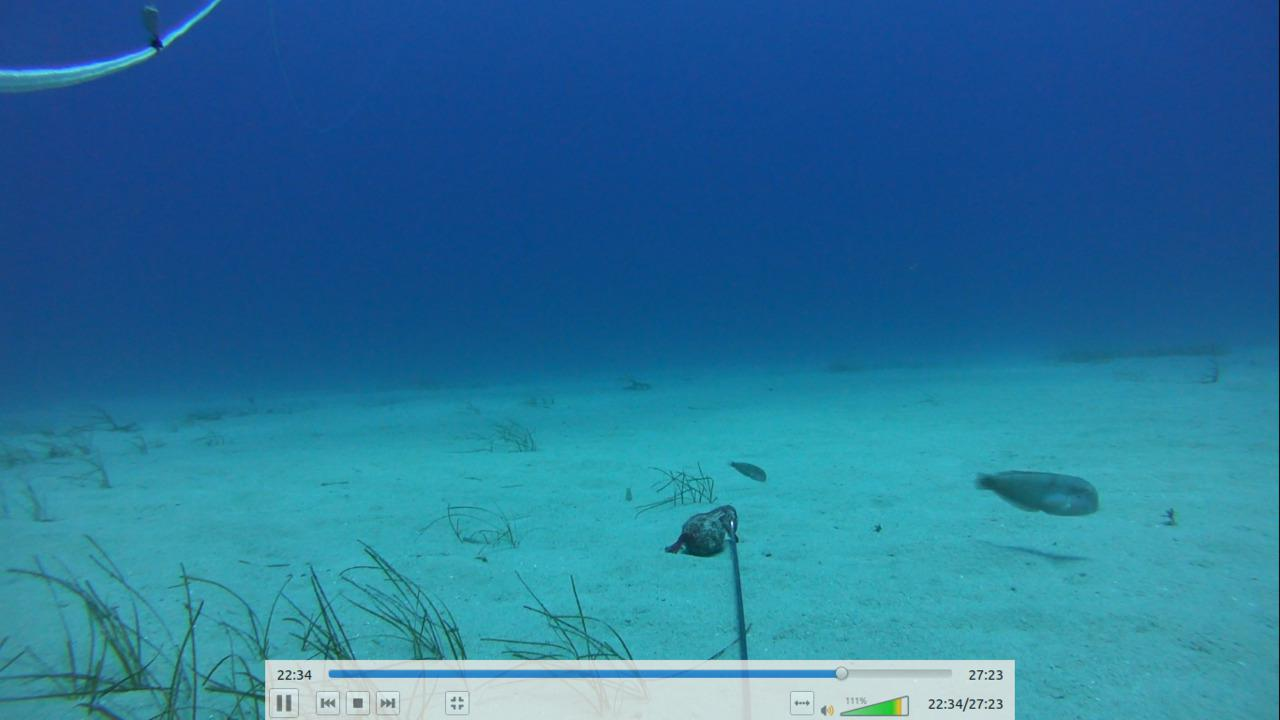raor: (968, 467, 1102, 520), (723, 455, 767, 481)
